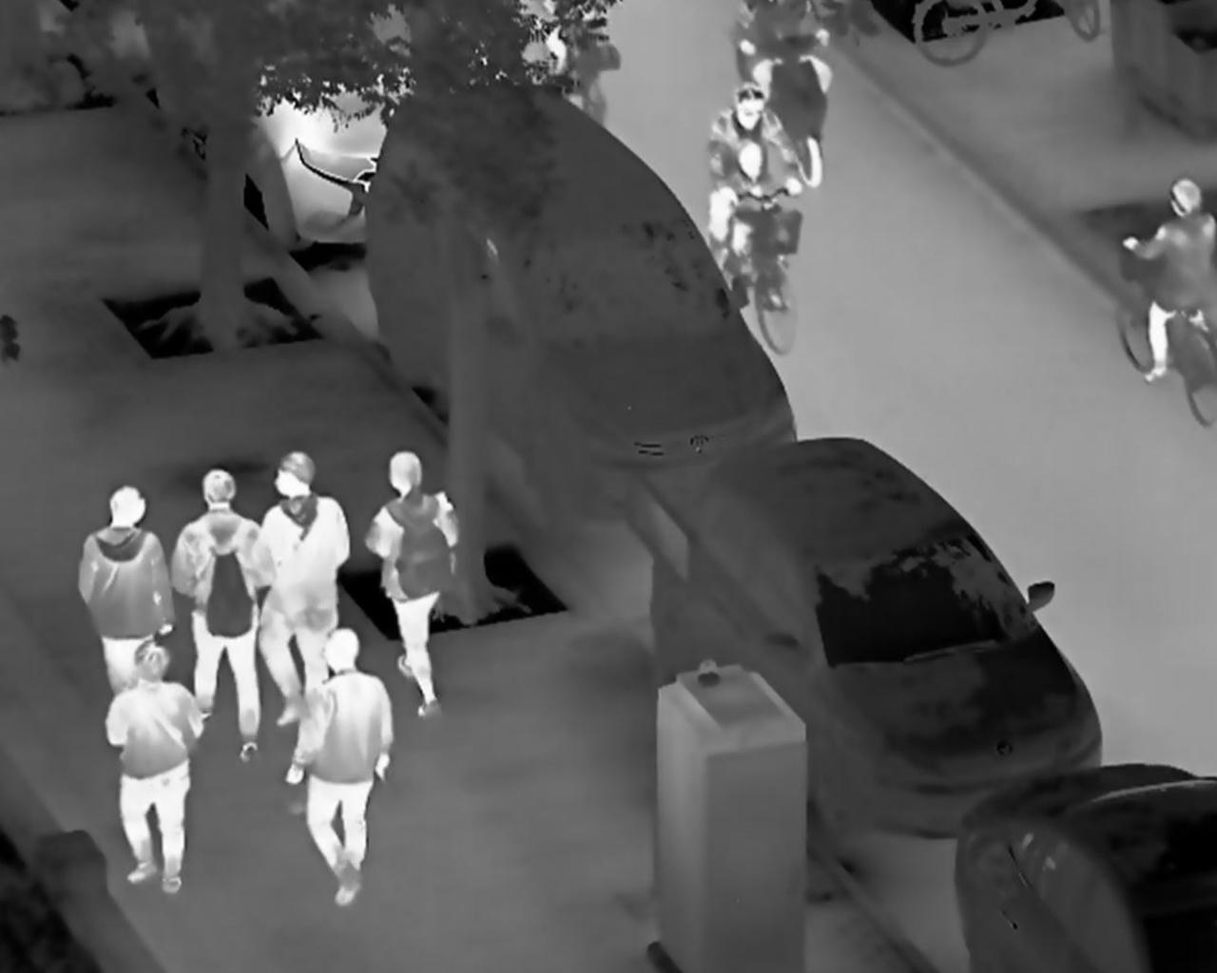person: (284, 626, 396, 907), (171, 469, 276, 767), (257, 450, 351, 730), (363, 451, 460, 719), (105, 643, 203, 897), (78, 483, 176, 704), (1122, 173, 1215, 386), (708, 83, 805, 275)
